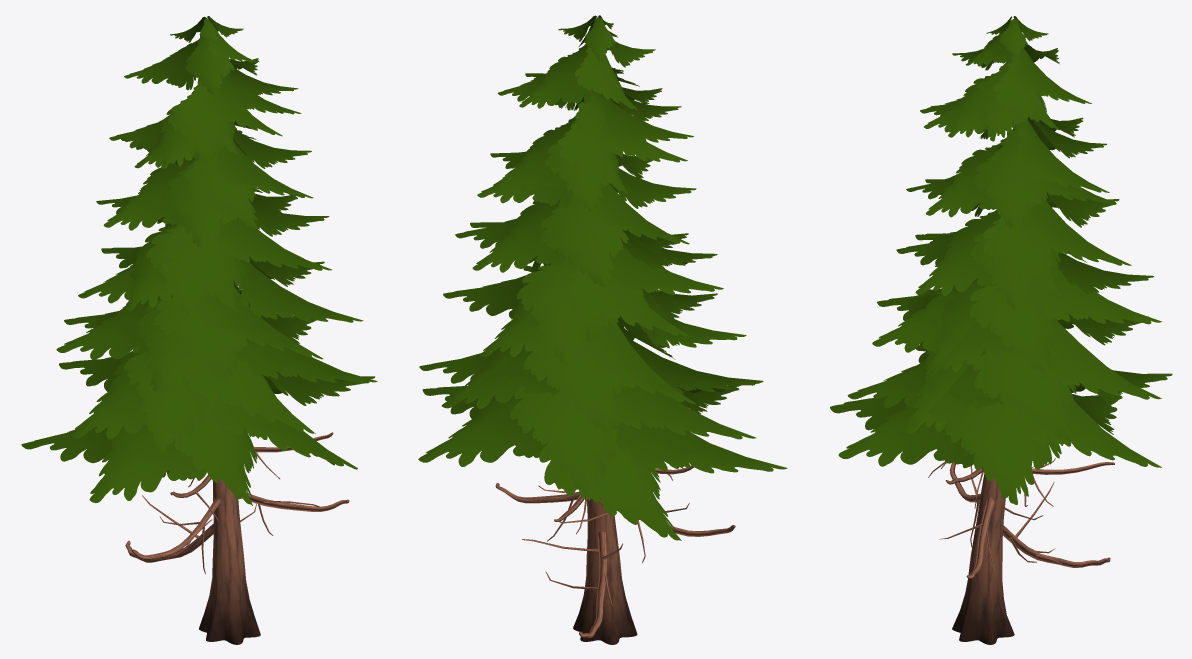
Rendered from Pine_4.glb.
The picture shows the model from 3 angles, left to right: view 1: azimuth 30°, elevation 25°; view 2: azimuth 150°, elevation 25°; view 3: azimuth 270°, elevation 25°; orthographic projection. The views are drawn at different scales.
Parts seen in each view (by area): view 1: Pine_4; view 2: Pine_4; view 3: Pine_4.
Part boxes in pixels (x1,y1,x2,y2): Pine_4: [21, 16, 377, 644]; Pine_4: [418, 15, 787, 644]; Pine_4: [830, 16, 1172, 644].
Size of the model in its own units: 5.8 by 10.24 by 5.37.
2 materials, 2 textured.
